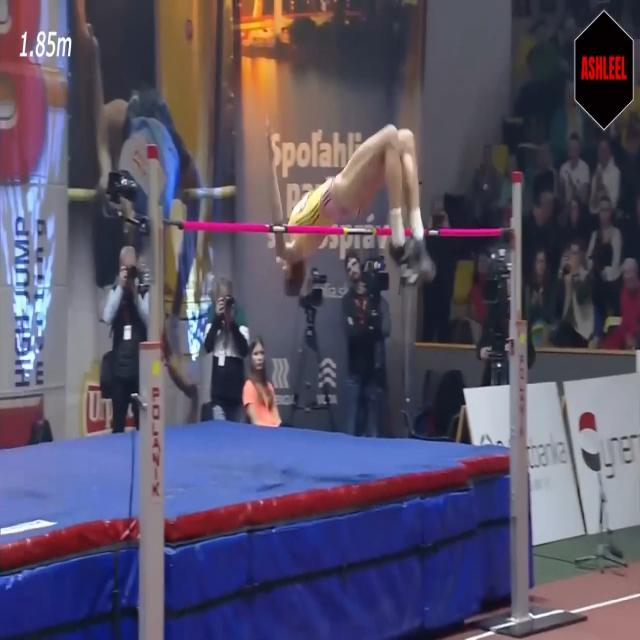jump: (262, 121, 436, 291)
